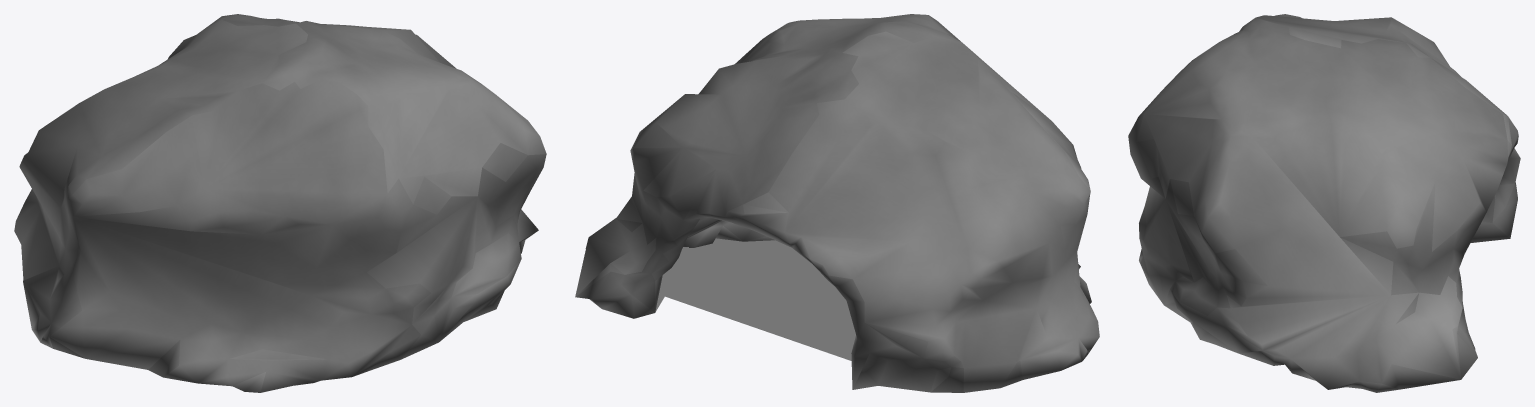
Rendered from cave 1.fbx.
The picture shows the model from 3 angles, left to right: view 1: azimuth 30°, elevation 25°; view 2: azimuth 150°, elevation 25°; view 3: azimuth 270°, elevation 25°; orthographic projection. The views are drawn at different scales.
Visible parts, largest first — view 1: Cave; view 2: Cave; view 3: Cave.
Boxes of the visible parts, x1,y1,x2,y2 form: Cave: (14,14,546,392); Cave: (575,14,1099,392); Cave: (1128,14,1520,392).
Size of the model in its own units: 2953 by 1497 by 2185.
1 material, 1 textured.
